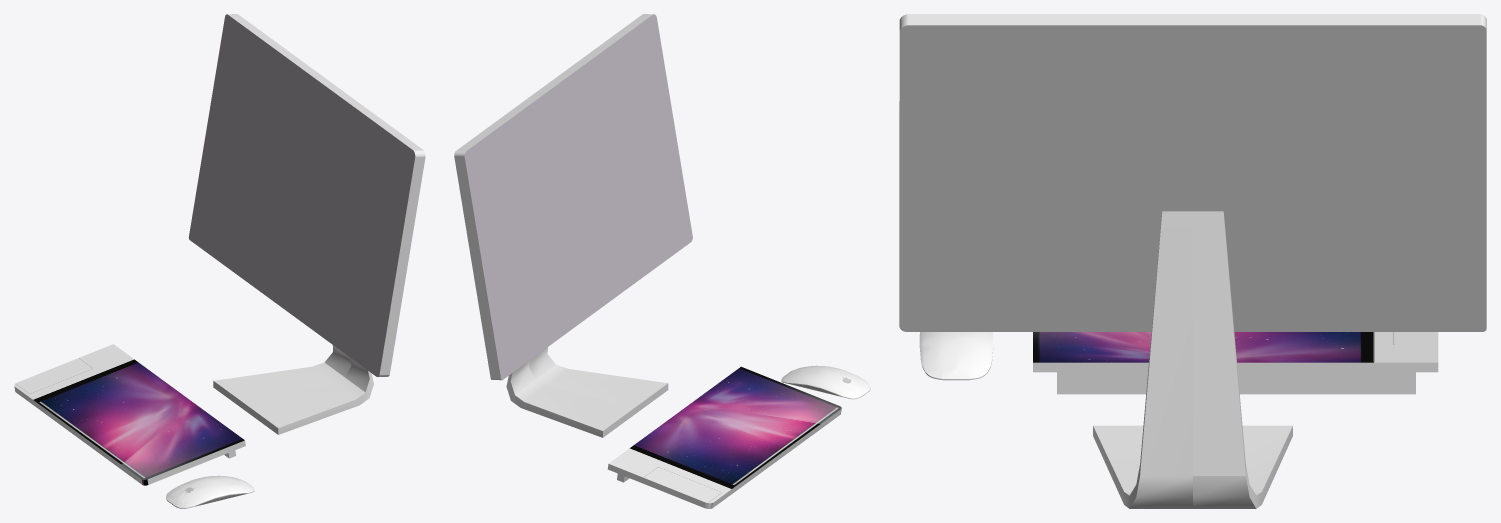
Rendered from ED-PPC-02_1_5V7L.gltf.
3 views of the same model, side by side, from view 1: azimuth 30°, elevation 25°; view 2: azimuth 150°, elevation 25°; view 3: azimuth 270°, elevation 25° (orthographic). The views are drawn at different scales.
Visible parts, largest first — view 1: Mesh8_Component_5_1_Mac_Pro1_Model001, Mesh8_Component_5_1_Mac_Pro1_Model005, Mesh8_Component_5_1_Mac_Pro1_Model004, Mesh8_Component_5_1_Mac_Pro1_Model003; view 2: Mesh8_Component_5_1_Mac_Pro1_Model001, Mesh8_Component_5_1_Mac_Pro1_Model005, Mesh8_Component_5_1_Mac_Pro1_Model004, Mesh8_Component_5_1_Mac_Pro1_Model003; view 3: Mesh8_Component_5_1_Mac_Pro1_Model004, Mesh8_Component_5_1_Mac_Pro1_Model005, Mesh8_Component_5_1_Mac_Pro1_Model003.
Part boxes in pixels (left/top/right/bottom): Mesh8_Component_5_1_Mac_Pro1_Model001: left=188, top=14, right=415, bottom=376; Mesh8_Component_5_1_Mac_Pro1_Model005: left=14, top=344, right=244, bottom=485; Mesh8_Component_5_1_Mac_Pro1_Model004: left=14, top=14, right=425, bottom=484; Mesh8_Component_5_1_Mac_Pro1_Model003: left=166, top=475, right=254, bottom=508; Mesh8_Component_5_1_Mac_Pro1_Model001: left=464, top=14, right=692, bottom=380; Mesh8_Component_5_1_Mac_Pro1_Model005: left=609, top=366, right=841, bottom=508; Mesh8_Component_5_1_Mac_Pro1_Model004: left=454, top=14, right=841, bottom=508; Mesh8_Component_5_1_Mac_Pro1_Model003: left=781, top=365, right=870, bottom=399; Mesh8_Component_5_1_Mac_Pro1_Model004: left=899, top=14, right=1486, bottom=508; Mesh8_Component_5_1_Mac_Pro1_Model005: left=1033, top=332, right=1438, bottom=362; Mesh8_Component_5_1_Mac_Pro1_Model003: left=919, top=332, right=993, bottom=380.
Size of the model in its own units: 0.8 by 0.9001 by 1.
Materials: 7 (1 with a texture image).
